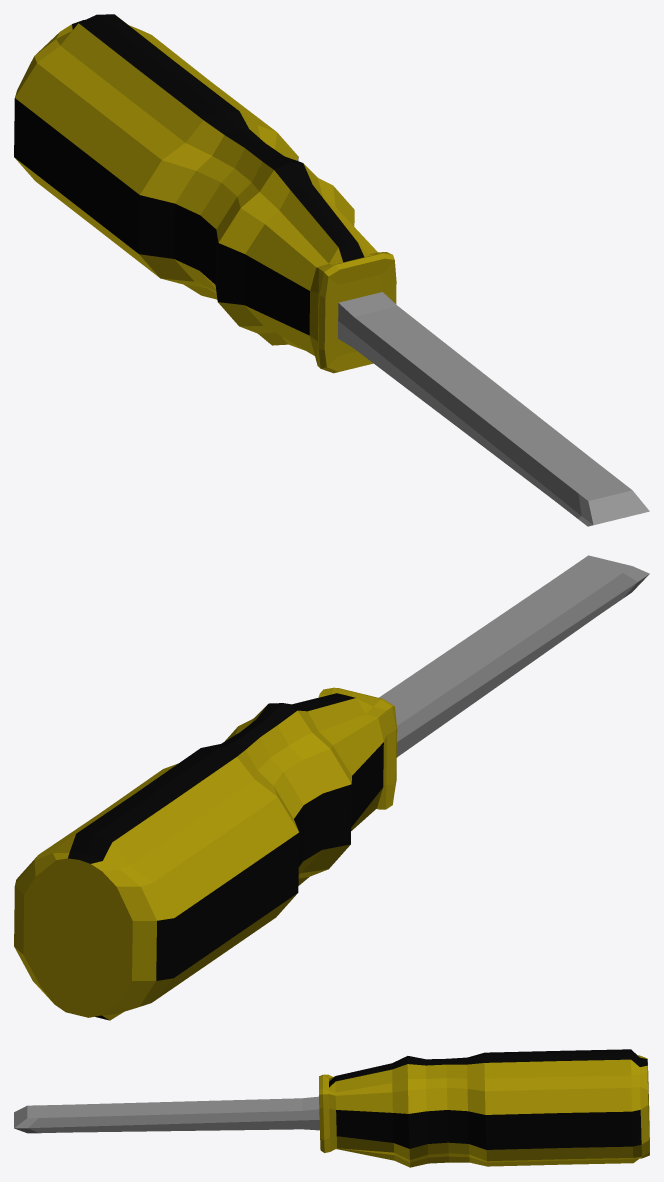
File: ScrewDriwer.fbx
The picture shows the model from 3 angles, top to bottom: view 1: azimuth 30°, elevation 25°; view 2: azimuth 150°, elevation 25°; view 3: azimuth 270°, elevation 25°; orthographic projection. The views are drawn at different scales.
Parts seen in each view (by area): view 1: Cube; view 2: Cube; view 3: Cube.
Part boxes in pixels (x1,y1,x2,y2): Cube: [14, 14, 649, 526]; Cube: [14, 555, 649, 1020]; Cube: [14, 1049, 649, 1167].
Size of the model in its own units: 89.38 by 102 by 530.
